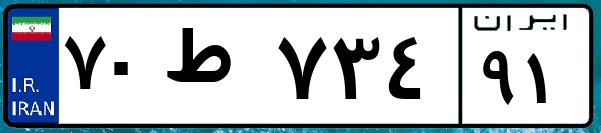0: (110, 28, 158, 98)
1: (525, 38, 570, 115)
3: (330, 28, 385, 110)
4: (385, 28, 445, 110)
7: (270, 28, 330, 110), (57, 26, 110, 100)
9: (475, 38, 525, 113)
ط: (158, 20, 270, 120)
